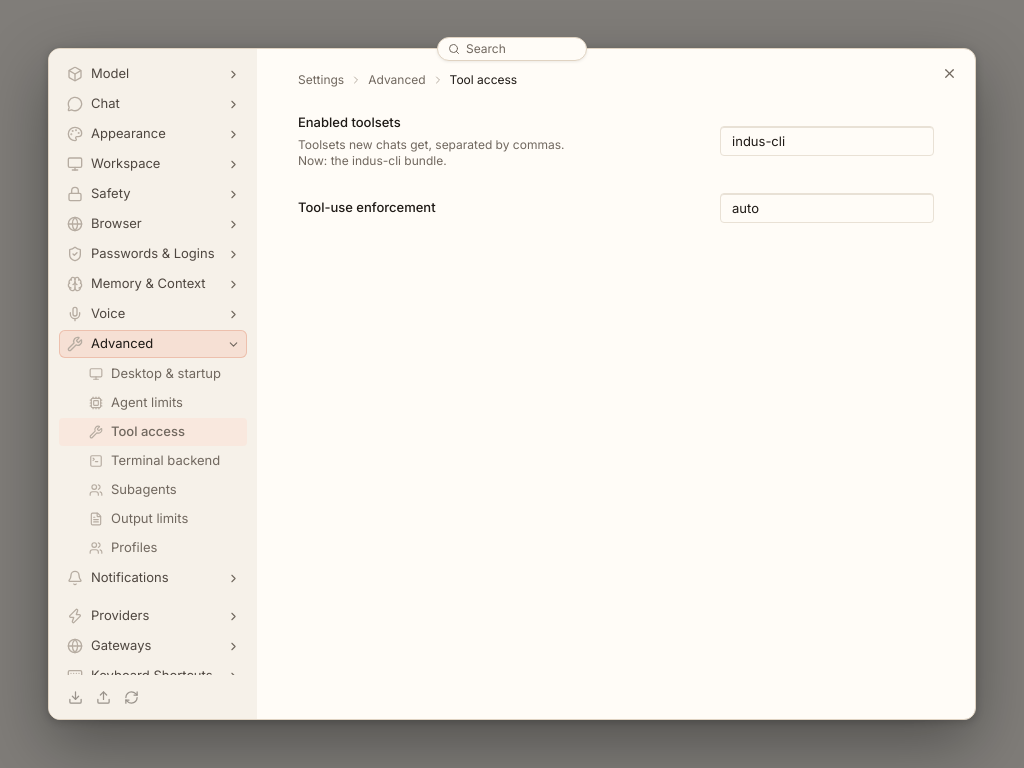
enabled toolsets › shows the bundle first, saves a list and reports a refusal
The image size is (1024, 768).
expect the text "Now: the indus-cli bundle" is shown: met, box [298,136,564,168]
expect the field labelled "Tool-use enforcement" is shown: met, box [720,192,934,222]
Replace the text in the field labelled "Enabled toolsets" with "web, file" at (827, 141), box [720,126,934,156]
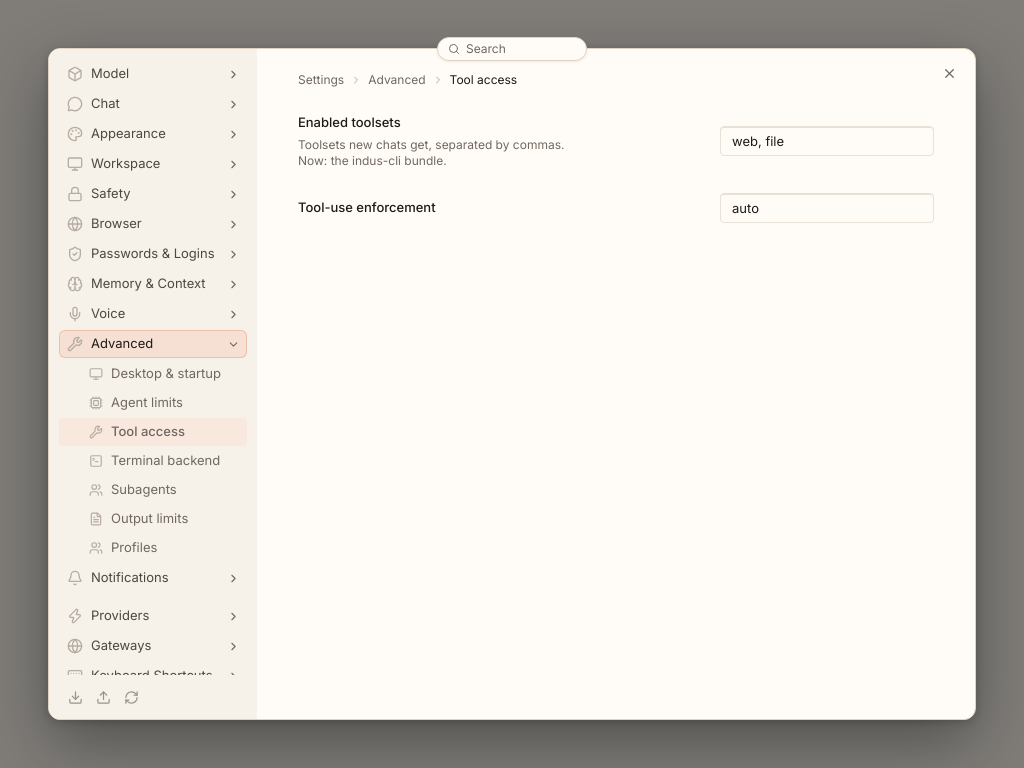
Leave the field labelled "Enabled toolsets", box [720,126,934,156]
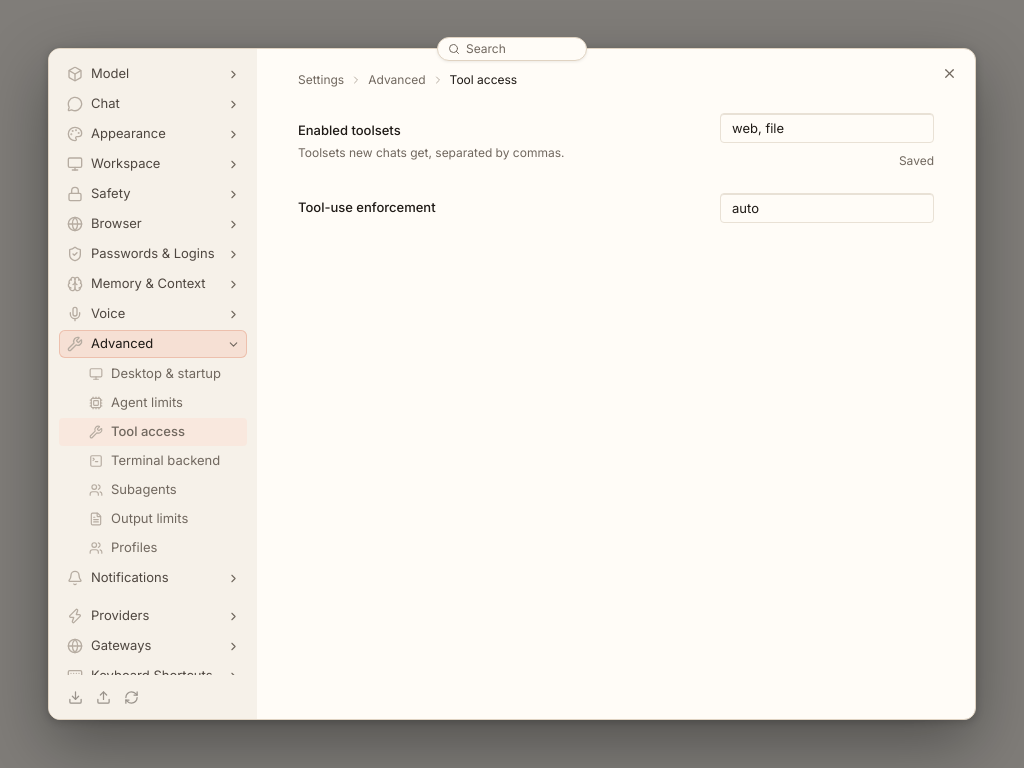
expect the text "Saved" is shown: met, box [899,153,934,169]
Replace the text in the field labelled "Enabled toolsets" with "web, wbe" at (827, 128), box [720,113,934,143]
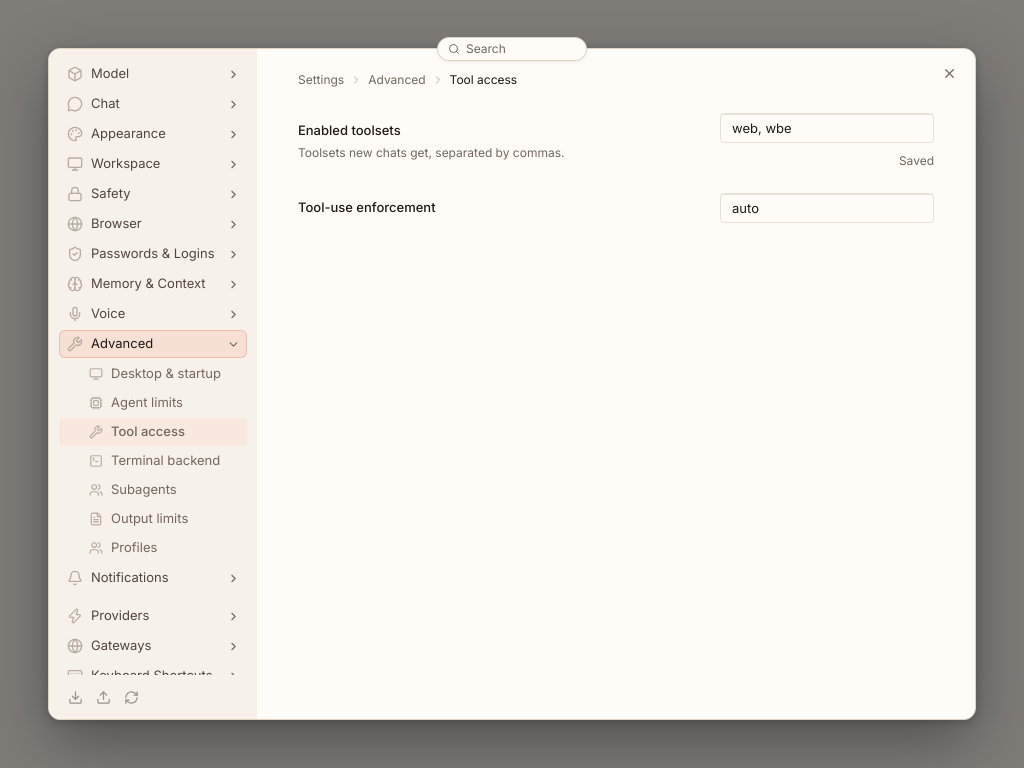
Press Enter in the field labelled "Enabled toolsets", box [720,113,934,143]
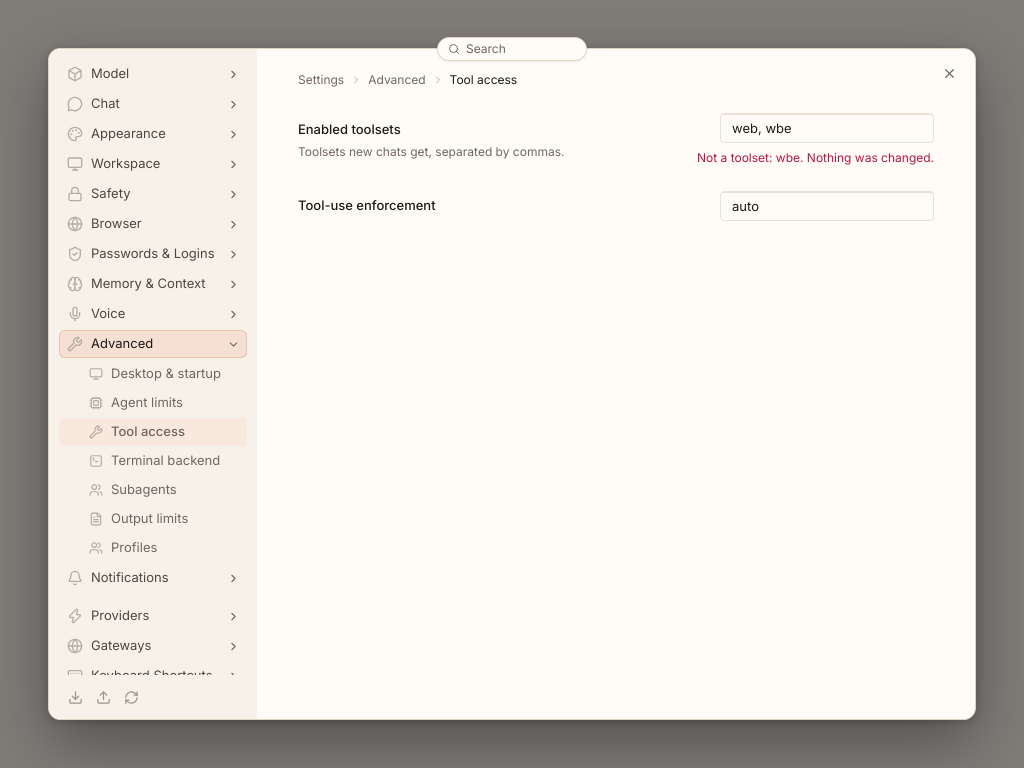
expect the text "Not a toolset: wbe. Nothing was changed." is shown: met, box [697,149,934,167]
